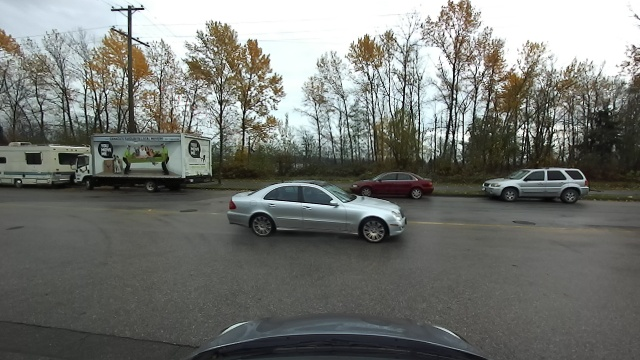car: (225, 182, 417, 243), (76, 127, 212, 191), (480, 162, 593, 207), (1, 138, 72, 190), (350, 164, 438, 198)
